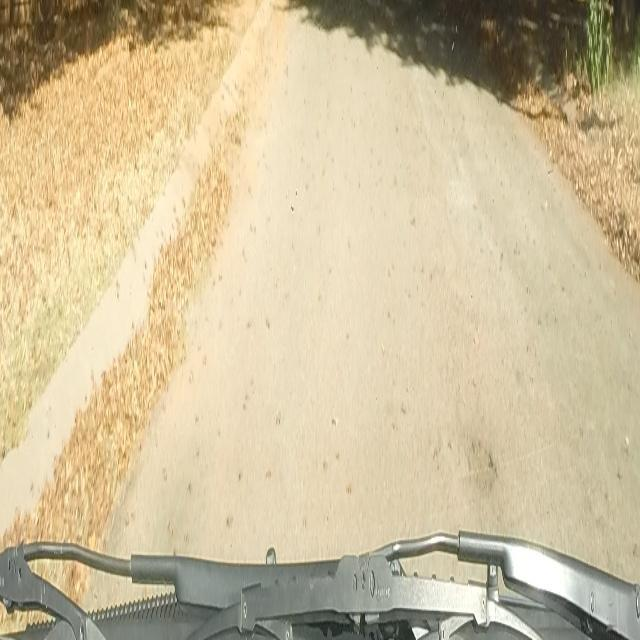pothole: (453, 425, 496, 491)
